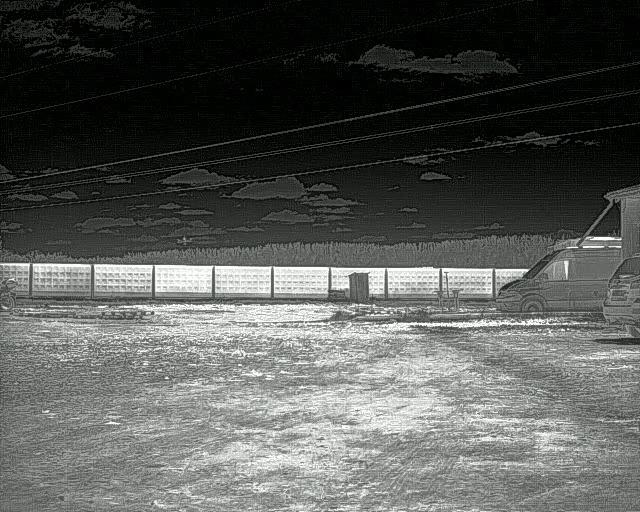drone-thermal: (176, 235, 195, 247)
